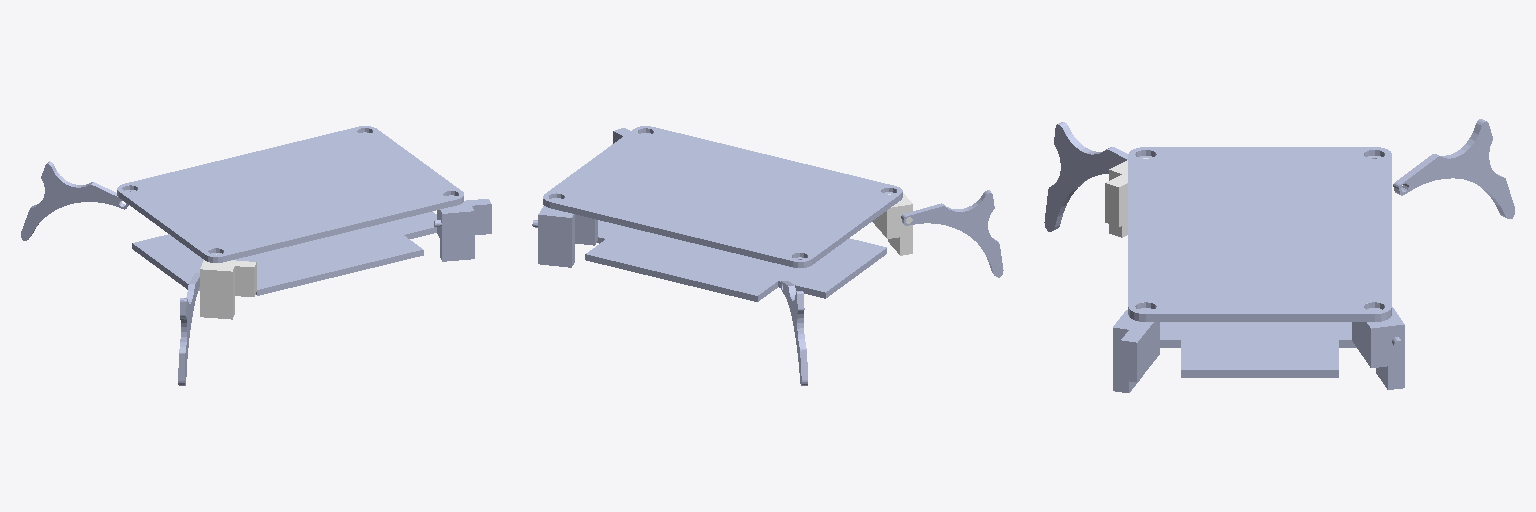
The robot description file, URDF, robot "spider_bot":
<?xml version="1.0" encoding="utf-8"?>
<!-- This URDF was automatically created by SolidWorks to URDF Exporter! Originally created by [author] ([email redacted]) 
     Commit Version: 1.6.0-4-g7f85cfe  Build Version: 1.6.7995.38578
     For more information, please see http://wiki.ros.org/sw_urdf_exporter -->
<robot
  name="spider_bot">

  <link name="world"/>

  <joint name="base_joint" type="fixed">
	<parent link="world"/>
	<child link="base_link"/>
	<origin rpy="0 0 0" xyz="0.0 0.0 0.17"/>
  </joint>  
  
  <link
    name="base_link">
    <inertial>
      <origin
        xyz="1.4664E-18 -0.01378 -1.6828E-18"
        rpy="0 0 0" />
      <mass
        value="0.31125" />
      <inertia
        ixx="0.00053528"
        ixy="5.6719E-22"
        ixz="-4.8668E-20"
        iyy="0.0017256"
        iyz="6.0646E-22"
        izz="0.0011916" />
    </inertial>
    <visual>
      <origin
        xyz="0 0 0"
        rpy="0 0 0" />
      <geometry>
        <mesh
          filename="package://spider_bot/meshes/base_link.STL" />
      </geometry>
      <material
        name="">
        <color
          rgba="0.79216 0.81961 0.93333 1" />
      </material>
    </visual>
    <collision>
      <origin
        xyz="0 0 0"
        rpy="0 0 0" />
      <geometry>
        <mesh
          filename="package://spider_bot/meshes/base_link.STL" />
      </geometry>
    </collision>
  </link>
  <link
    name="hip1_link">
    <inertial>
      <origin
        xyz="-0.019683 -0.0061033 0.005"
        rpy="0 0 0" />
      <mass
        value="0.020238" />
      <inertia
        ixx="2.0599E-06"
        ixy="-3.5219E-08"
        ixz="-1.1746E-22"
        iyy="2.0599E-06"
        iyz="1.5882E-22"
        izz="3.7856E-06" />
    </inertial>
    <visual>
      <origin
        xyz="0 0 0"
        rpy="0 0 0" />
      <geometry>
        <mesh
          filename="package://spider_bot/meshes/hip1_link.STL" />
      </geometry>
      <material
        name="">
        <color
          rgba="0.79216 0.81961 0.93333 1" />
      </material>
    </visual>
    <collision>
      <origin
        xyz="0 0 0"
        rpy="0 0 0" />
      <geometry>
        <mesh
          filename="package://spider_bot/meshes/hip1_link.STL" />
      </geometry>
    </collision>
  </link>
  <joint
    name="hip1"
    type="revolute">
    <origin
      xyz="0.1025 -0.065 0"
      rpy="1.2442 -1.5708 0" />
    <parent
      link="base_link" />
    <child
      link="hip1_link" />
    <axis
      xyz="1 0 0" />
    <limit
      lower="-3.14"
      upper="3.14"
      effort="100"
      velocity="3" />
  </joint>
  <link
    name="leg1_link">
    <inertial>
      <origin
        xyz="-0.019147 0.043897 -0.0125"
        rpy="0 0 0" />
      <mass
        value="0.0071825" />
      <inertia
        ixx="2.3125E-06"
        ixy="1.4767E-06"
        ixz="1.1779E-21"
        iyy="2.3213E-06"
        iyz="-2.0117E-21"
        izz="4.6039E-06" />
    </inertial>
    <visual>
      <origin
        xyz="0 0 0"
        rpy="0 0 0" />
      <geometry>
        <mesh
          filename="package://spider_bot/meshes/leg1_link.STL" />
      </geometry>
      <material
        name="">
        <color
          rgba="0.79216 0.81961 0.93333 1" />
      </material>
    </visual>
    <collision>
      <origin
        xyz="0 0 0"
        rpy="0 0 0" />
      <geometry>
        <mesh
          filename="package://spider_bot/meshes/leg1_link.STL" />
      </geometry>
    </collision>
  </link>
  <joint
    name="leg1"
    type="revolute">
    <origin
      xyz="-0.01358 0 0.01"
      rpy="1.5708 0.11409 0" />
    <parent
      link="hip1_link" />
    <child
      link="leg1_link" />
    <axis
      xyz="0 0 1" />
    <limit
      lower="-3.14"
      upper="3.14"
      effort="100"
      velocity="3" />
  </joint>
  <link
    name="hip2_link">
    <inertial>
      <origin
        xyz="-0.0061033 -0.019683 -0.005"
        rpy="0 0 0" />
      <mass
        value="0.020238" />
      <inertia
        ixx="2.0599E-06"
        ixy="-3.5219E-08"
        ixz="-5.8234E-22"
        iyy="2.0599E-06"
        iyz="9.3802E-22"
        izz="3.7856E-06" />
    </inertial>
    <visual>
      <origin
        xyz="0 0 0"
        rpy="0 0 0" />
      <geometry>
        <mesh
          filename="package://spider_bot/meshes/hip2_link.STL" />
      </geometry>
      <material
        name="">
        <color
          rgba="0.79216 0.81961 0.93333 1" />
      </material>
    </visual>
    <collision>
      <origin
        xyz="0 0 0"
        rpy="0 0 0" />
      <geometry>
        <mesh
          filename="package://spider_bot/meshes/hip2_link.STL" />
      </geometry>
    </collision>
  </link>
  <joint
    name="hip2"
    type="revolute">
    <origin
      xyz="0.1025 0.065 0"
      rpy="1.5708 0 0.27915" />
    <parent
      link="base_link" />
    <child
      link="hip2_link" />
    <axis
      xyz="0 1 0" />
    <limit
      lower="-3.14"
      upper="3.14"
      effort="100"
      velocity="3" />
  </joint>
  <link
    name="leg2_link">
    <inertial>
      <origin
        xyz="-0.019147 0.043897 -0.0125"
        rpy="0 0 0" />
      <mass
        value="0.0071825" />
      <inertia
        ixx="2.3125E-06"
        ixy="1.4767E-06"
        ixz="-7.7424E-22"
        iyy="2.3213E-06"
        iyz="3.7058E-22"
        izz="4.6039E-06" />
    </inertial>
    <visual>
      <origin
        xyz="0 0 0"
        rpy="0 0 0" />
      <geometry>
        <mesh
          filename="package://spider_bot/meshes/leg2_link.STL" />
      </geometry>
      <material
        name="">
        <color
          rgba="0.79216 0.81961 0.93333 1" />
      </material>
    </visual>
    <collision>
      <origin
        xyz="0 0 0"
        rpy="0 0 0" />
      <geometry>
        <mesh
          filename="package://spider_bot/meshes/leg2_link.STL" />
      </geometry>
    </collision>
  </link>
  <joint
    name="leg2"
    type="revolute">
    <origin
      xyz="0 -0.01358 -0.01"
      rpy="-1.5708 0.061399 1.5708" />
    <parent
      link="hip2_link" />
    <child
      link="leg2_link" />
    <axis
      xyz="0 0 1" />
    <limit
      lower="-3.14"
      upper="3.14"
      effort="100"
      velocity="3" />
  </joint>
  <link
    name="hip3_link">
    <inertial>
      <origin
        xyz="-0.0061033 -0.019683 -0.005"
        rpy="0 0 0" />
      <mass
        value="0.020238" />
      <inertia
        ixx="2.0599E-06"
        ixy="-3.5219E-08"
        ixz="-1.1647E-21"
        iyy="2.0599E-06"
        iyz="3.1433E-22"
        izz="3.7856E-06" />
    </inertial>
    <visual>
      <origin
        xyz="0 0 0"
        rpy="0 0 0" />
      <geometry>
        <mesh
          filename="package://spider_bot/meshes/hip3_link.STL" />
      </geometry>
      <material
        name="">
        <color
          rgba="0.79216 0.81961 0.93333 1" />
      </material>
    </visual>
    <collision>
      <origin
        xyz="0 0 0"
        rpy="0 0 0" />
      <geometry>
        <mesh
          filename="package://spider_bot/meshes/hip3_link.STL" />
      </geometry>
    </collision>
  </link>
  <joint
    name="hip3"
    type="revolute">
    <origin
      xyz="-0.1025 0.065 0"
      rpy="1.5708 0 0.69831" />
    <parent
      link="base_link" />
    <child
      link="hip3_link" />
    <axis
      xyz="0 1 0" />
    <limit
      lower="-3.14"
      upper="3.14"
      effort="100"
      velocity="3" />
  </joint>
  <link
    name="leg3_link">
    <inertial>
      <origin
        xyz="-0.019147 0.043897 -0.00043326"
        rpy="0 0 0" />
      <mass
        value="0.0071825" />
      <inertia
        ixx="2.3125E-06"
        ixy="1.4767E-06"
        ixz="1.5882E-22"
        iyy="2.3213E-06"
        iyz="5.294E-23"
        izz="4.6039E-06" />
    </inertial>
    <visual>
      <origin
        xyz="0 0 0"
        rpy="0 0 0" />
      <geometry>
        <mesh
          filename="package://spider_bot/meshes/leg3_link.STL" />
      </geometry>
      <material
        name="">
        <color
          rgba="0.79216 0.81961 0.93333 1" />
      </material>
    </visual>
    <collision>
      <origin
        xyz="0 0 0"
        rpy="0 0 0" />
      <geometry>
        <mesh
          filename="package://spider_bot/meshes/leg3_link.STL" />
      </geometry>
    </collision>
  </link>
  <joint
    name="leg3"
    type="revolute">
    <origin
      xyz="0.012067 -0.01358 -0.01"
      rpy="-1.5708 -0.3205 1.5708" />
    <parent
      link="hip3_link" />
    <child
      link="leg3_link" />
    <axis
      xyz="0 0 1" />
    <limit
      lower="-3.14"
      upper="3.14"
      effort="100"
      velocity="3" />
  </joint>
  <link
    name="hip4_link">
    <inertial>
      <origin
        xyz="-0.0061334 -0.019683 -0.004963"
        rpy="0 0 0" />
      <mass
        value="0.020238" />
      <inertia
        ixx="2.06E-06"
        ixy="-3.5218E-08"
        ixz="1.045E-08"
        iyy="2.0599E-06"
        iyz="2.1327E-10"
        izz="3.7855E-06" />
    </inertial>
    <visual>
      <origin
        xyz="0 0 0"
        rpy="0 0 0" />
      <geometry>
        <mesh
          filename="package://spider_bot/meshes/hip4_link.STL" />
      </geometry>
      <material
        name="">
        <color
          rgba="1 1 1 1" />
      </material>
    </visual>
    <collision>
      <origin
        xyz="0 0 0"
        rpy="0 0 0" />
      <geometry>
        <mesh
          filename="package://spider_bot/meshes/hip4_link.STL" />
      </geometry>
    </collision>
  </link>
  <joint
    name="hip4"
    type="revolute">
    <origin
      xyz="-0.1025 -0.065 0"
      rpy="1.5708 0 2.4479" />
    <parent
      link="base_link" />
    <child
      link="hip4_link" />
    <axis
      xyz="0 1 0" />
    <limit
      lower="-3.14"
      upper="3.14"
      effort="100"
      velocity="3" />
  </joint>
  <link
    name="leg4_link">
    <inertial>
      <origin
        xyz="-0.019147 0.043897 -0.041147"
        rpy="0 0 0" />
      <mass
        value="0.0071825" />
      <inertia
        ixx="2.3125E-06"
        ixy="1.4767E-06"
        ixz="6.6174E-22"
        iyy="2.3213E-06"
        iyz="-9.5291E-22"
        izz="4.6039E-06" />
    </inertial>
    <visual>
      <origin
        xyz="0 0 0"
        rpy="0 0 0" />
      <geometry>
        <mesh
          filename="package://spider_bot/meshes/leg4_link.STL" />
      </geometry>
      <material
        name="">
        <color
          rgba="0.79216 0.81961 0.93333 1" />
      </material>
    </visual>
    <collision>
      <origin
        xyz="0 0 0"
        rpy="0 0 0" />
      <geometry>
        <mesh
          filename="package://spider_bot/meshes/leg4_link.STL" />
      </geometry>
    </collision>
  </link>
  <joint
    name="leg4"
    type="revolute">
    <origin
      xyz="-0.028647 -0.01358 -0.01"
      rpy="-1.5708 -0.13243 1.5708" />
    <parent
      link="hip4_link" />
    <child
      link="leg4_link" />
    <axis
      xyz="0 0 1" />
    <limit
      lower="-3.14"
      upper="3.14"
      effort="100"
      velocity="3" />
  </joint>
  <transmission name="hip1_link_trans">
	<type>transmission_interface/SimpleTransmission</type>
	<joint name="hip1">
	<hardwareInterface>hardware_interface/PositionJointInterface</hardwareInterface>
	</joint>
	<actuator name="hip1_link_motor">
	<hardwareInterface>hardware_interface/PositionJointInterface</hardwareInterface>
		<mechanicalReduction>1</mechanicalReduction>
	</actuator>
  </transmission>
  <transmission name="leg1_link_trans">
	<type>transmission_interface/SimpleTransmission</type>
	<joint name="leg1">
	<hardwareInterface>hardware_interface/PositionJointInterface</hardwareInterface>
	</joint>
	<actuator name="leg1_link_motor">
	<hardwareInterface>hardware_interface/PositionJointInterface</hardwareInterface>
		<mechanicalReduction>1</mechanicalReduction>
	</actuator>
  </transmission>
  <transmission name="hip2_link_trans">
	<type>transmission_interface/SimpleTransmission</type>
	<joint name="hip2">
	<hardwareInterface>hardware_interface/PositionJointInterface</hardwareInterface>
	</joint>
	<actuator name="hip2_link_motor">
	<hardwareInterface>hardware_interface/PositionJointInterface</hardwareInterface>
		<mechanicalReduction>1</mechanicalReduction>
	</actuator>
  </transmission>
  <transmission name="leg2_link_trans">
	<type>transmission_interface/SimpleTransmission</type>
	<joint name="leg2">
	<hardwareInterface>hardware_interface/PositionJointInterface</hardwareInterface>
	</joint>
	<actuator name="leg2_link_motor">
	<hardwareInterface>hardware_interface/PositionJointInterface</hardwareInterface>
		<mechanicalReduction>1</mechanicalReduction>
	</actuator>
  </transmission>
  <transmission name="hip3_link_trans">
	<type>transmission_interface/SimpleTransmission</type>
	<joint name="hip3">
	<hardwareInterface>hardware_interface/PositionJointInterface</hardwareInterface>
	</joint>
	<actuator name="hip3_link_motor">
	<hardwareInterface>hardware_interface/PositionJointInterface</hardwareInterface>
		<mechanicalReduction>1</mechanicalReduction>
	</actuator>
  </transmission>
  <transmission name="leg3_link_trans">
	<type>transmission_interface/SimpleTransmission</type>
	<joint name="leg3">
	<hardwareInterface>hardware_interface/PositionJointInterface</hardwareInterface>
	</joint>
	<actuator name="leg3_link_motor">
	<hardwareInterface>hardware_interface/PositionJointInterface</hardwareInterface>
		<mechanicalReduction>1</mechanicalReduction>
	</actuator>
  </transmission>
  <transmission name="hip4_link_trans">
	<type>transmission_interface/SimpleTransmission</type>
	<joint name="hip4">
	<hardwareInterface>hardware_interface/PositionJointInterface</hardwareInterface>
	</joint>
	<actuator name="hip4_link_motor">
	<hardwareInterface>hardware_interface/PositionJointInterface</hardwareInterface>
		<mechanicalReduction>1</mechanicalReduction>
	</actuator>
  </transmission>
  <transmission name="leg4_link_trans">
	<type>transmission_interface/SimpleTransmission</type>
	<joint name="leg4">
	<hardwareInterface>hardware_interface/PositionJointInterface</hardwareInterface>
	</joint>
	<actuator name="leg4_link_motor">
	<hardwareInterface>hardware_interface/PositionJointInterface</hardwareInterface>
		<mechanicalReduction>1</mechanicalReduction>
	</actuator>
  </transmission>
  
  <gazebo>
	<plugin name="control" filename="libgazebo_ros_control.so">
		<robotNamespace>/</robotNamespace>
	</plugin>
  </gazebo>
  
  <gazebo reference="hip1_link">
	<selfCollide>true</selfCollide>
  </gazebo>
  <gazebo reference="leg1_link">
	<selfCollide>true</selfCollide>
  </gazebo>   
  <gazebo reference="hip2_link">
	<selfCollide>true</selfCollide>
  </gazebo>
  <gazebo reference="leg2_link">
	<selfCollide>true</selfCollide>
  </gazebo>
  <gazebo reference="hip3_link">
	<selfCollide>true</selfCollide>
  </gazebo>
  <gazebo reference="leg3_link">
	<selfCollide>true</selfCollide>
  </gazebo>
  <gazebo reference="hip4_link">
	<selfCollide>true</selfCollide>
  </gazebo>
  <gazebo reference="leg4_link">
	<selfCollide>true</selfCollide>
  </gazebo>

</robot>

--- What the picture shows (computed from the rendered views, not written in the file) ---
3 views of the same robot in one strip: view 1: azimuth 30°, elevation 25°; view 2: azimuth 150°, elevation 25°; view 3: azimuth 270°, elevation 25° (orthographic).
Robot: spider_bot — 10 links, 9 joints (8 revolute, 1 fixed); root link world; default pose: every joint at zero.
Visible links, largest first — view 1: base_link, hip4_link, hip1_link, leg3_link, leg4_link; view 2: base_link, hip2_link, leg4_link, hip4_link, leg3_link; view 3: base_link, leg3_link, leg4_link, hip1_link, hip2_link, hip4_link.
Link boxes in pixels (x1,y1,x2,y2): base_link: (117,126,463,295); hip4_link: (200,254,256,319); hip1_link: (434,197,491,261); leg3_link: (21,161,128,240); leg4_link: (178,273,199,385); base_link: (543,126,902,301); hip2_link: (532,206,597,267); leg4_link: (901,190,1003,277); hip4_link: (872,193,912,255); leg3_link: (781,281,807,385); base_link: (1128,147,1391,377); leg3_link: (1393,119,1514,218); leg4_link: (1044,122,1127,231); hip1_link: (1113,310,1159,392); hip2_link: (1352,307,1404,389); hip4_link: (1105,158,1148,237).
Bounding box of the posed robot: 0.2999 × 0.2679 × 0.0811 m (x, y, z).
6 mesh visuals loaded from 9 distinct referenced files (6 binary STL); not drawn: 3 (reference not matched to a file when rendering).